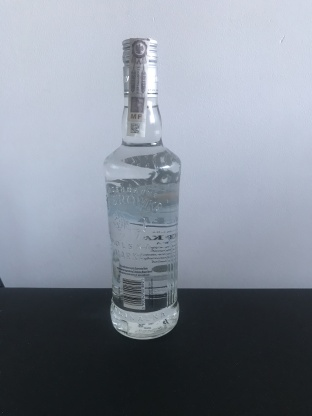nakretka: (120, 34, 160, 101)
